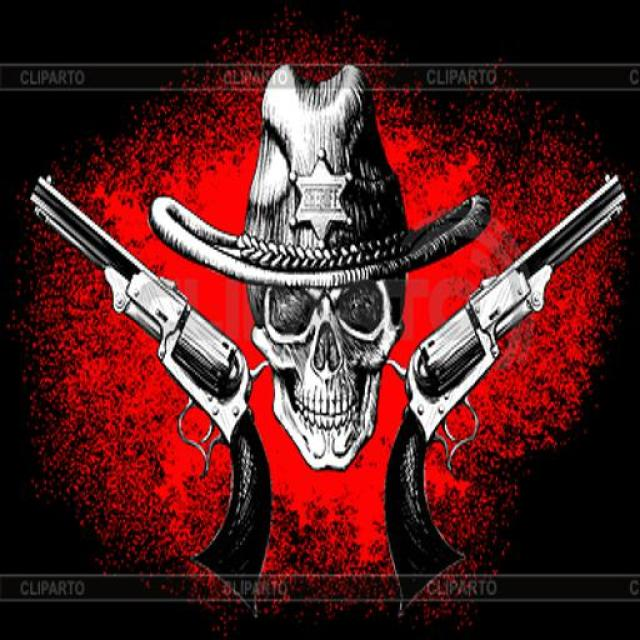pistol: (385, 171, 630, 619), (31, 171, 270, 599)
